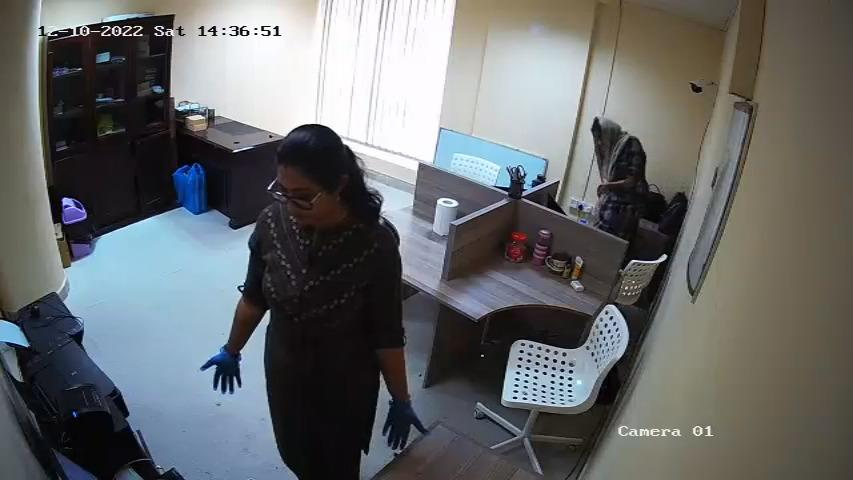gloves: (380, 397, 430, 453), (200, 343, 245, 400)
